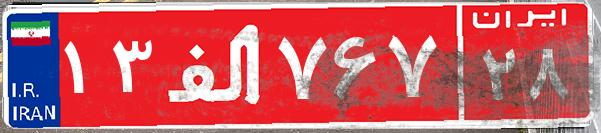1: (57, 26, 110, 107)
2: (475, 38, 525, 113)
3: (110, 28, 158, 105)
6: (330, 28, 385, 110)
7: (385, 28, 445, 110), (273, 28, 330, 110)
8: (525, 38, 570, 115)
الف: (158, 15, 273, 115)
